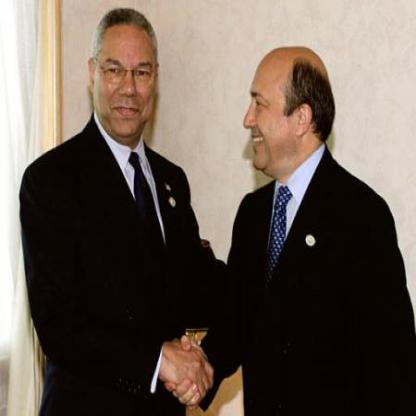face: (94, 12, 159, 140), (242, 52, 300, 176)
